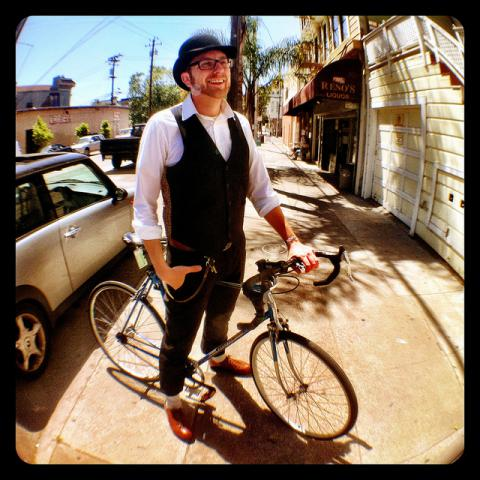car: (15, 154, 132, 389), (72, 134, 105, 157)
truck: (100, 123, 147, 168)
